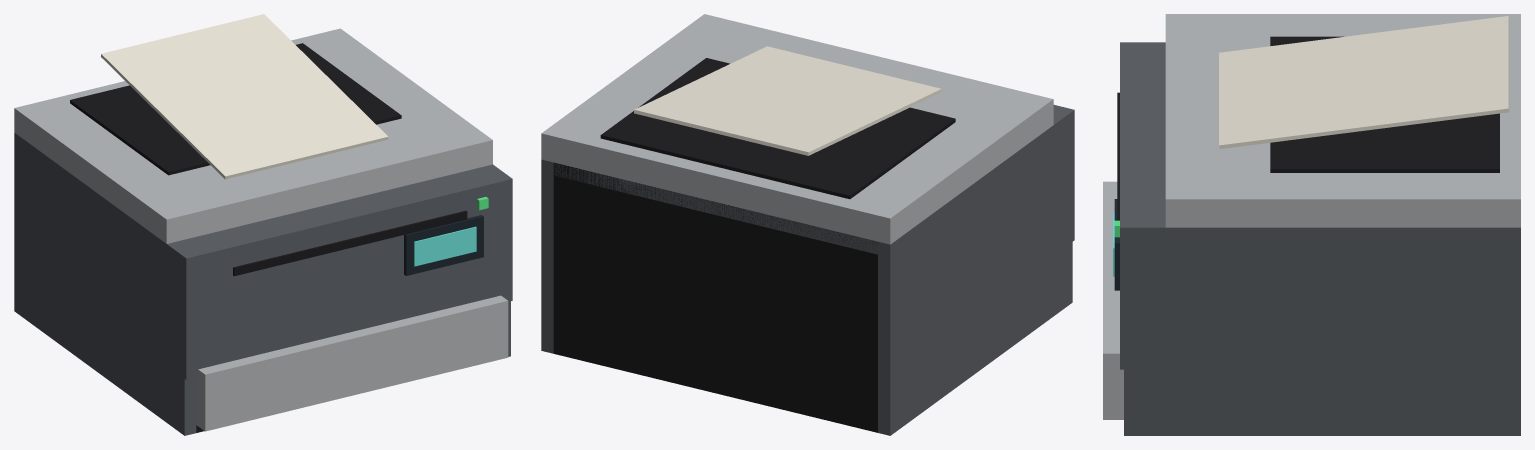
The model's file is GO_Printer_Desktop_01.glb.
3 renders of one model, left to right at view 1: azimuth 30°, elevation 25°; view 2: azimuth 150°, elevation 25°; view 3: azimuth 270°, elevation 25°, orthographic. The views are drawn at different scales.
Visible parts, largest first — view 1: GO_Printer_Desktop_01, Cover, Tray; view 2: GO_Printer_Desktop_01, Cover; view 3: GO_Printer_Desktop_01, Cover, Tray.
Boxes of the visible parts, <box> form: GO_Printer_Desktop_01: <box>14,14,512,435</box>; Cover: <box>14,28,492,243</box>; Tray: <box>196,295,508,431</box>; GO_Printer_Desktop_01: <box>541,46,1074,435</box>; Cover: <box>541,14,1053,244</box>; GO_Printer_Desktop_01: <box>1113,16,1520,435</box>; Cover: <box>1165,14,1520,227</box>; Tray: <box>1103,181,1123,419</box>.
Size of the model in its own units: 0.42 by 0.297 by 0.4.
1 material, 1 textured.
